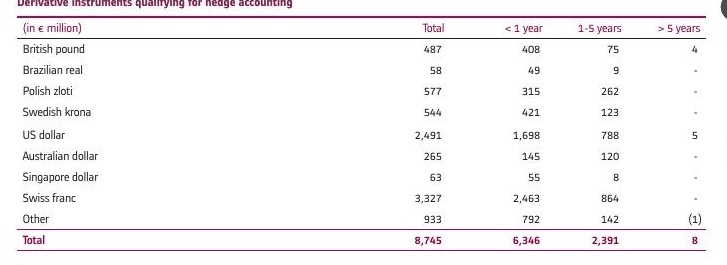table: (0, 0, 727, 265)
